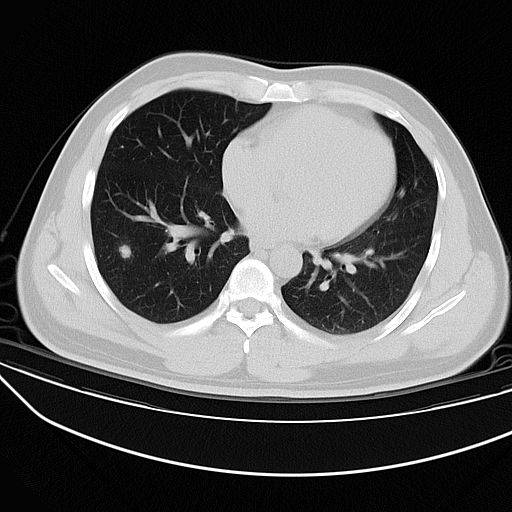nodule: (118, 243, 131, 258)
